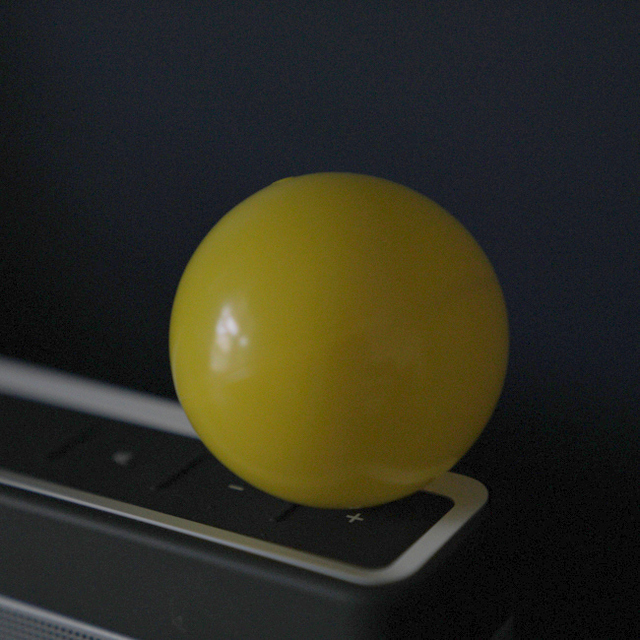Ball: (162, 171, 513, 512)
